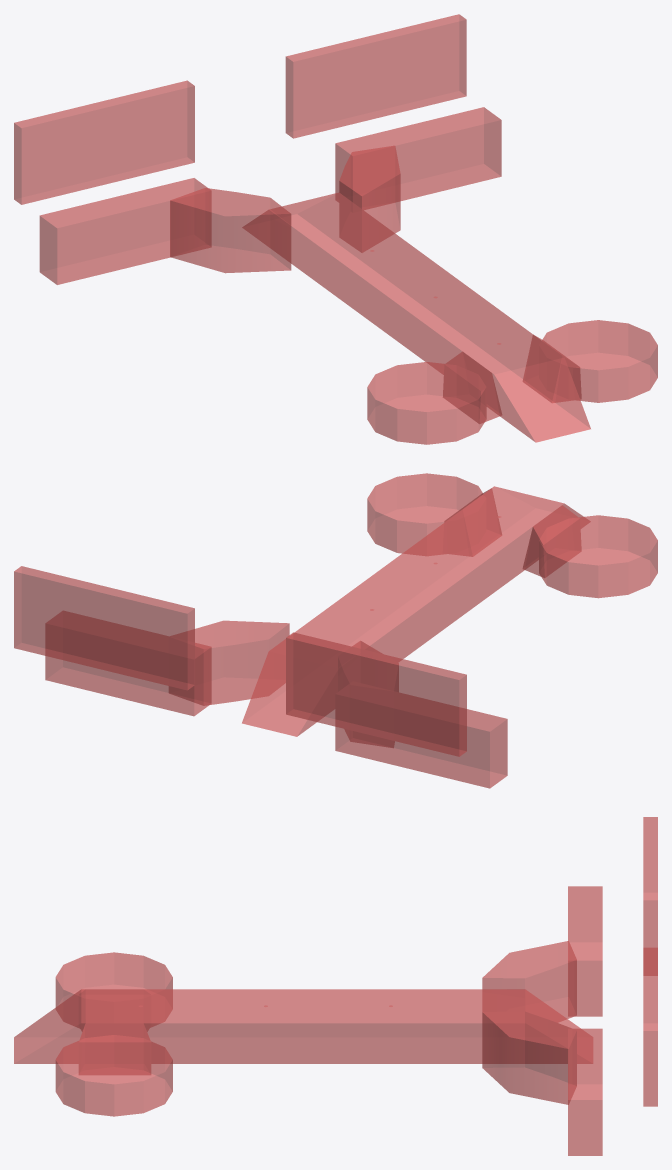
Rendered from SM_Bld_StripClub_Interior_02_Collision_MODIFIED.fbx.
3 renders of one model, top to bottom at view 1: azimuth 30°, elevation 25°; view 2: azimuth 150°, elevation 25°; view 3: azimuth 270°, elevation 25°, orthographic.
Visible parts, largest first — view 1: SM_Bld_StripClub_Interior_02_Collision; view 2: SM_Bld_StripClub_Interior_02_Collision; view 3: SM_Bld_StripClub_Interior_02_Collision.
Part boxes in pixels (left/top/right/bottom): SM_Bld_StripClub_Interior_02_Collision: left=14, top=14, right=657, bottom=444; SM_Bld_StripClub_Interior_02_Collision: left=14, top=473, right=657, bottom=788; SM_Bld_StripClub_Interior_02_Collision: left=14, top=817, right=657, bottom=1155.
Size of the model in its own units: 953 by 261 by 1205.
